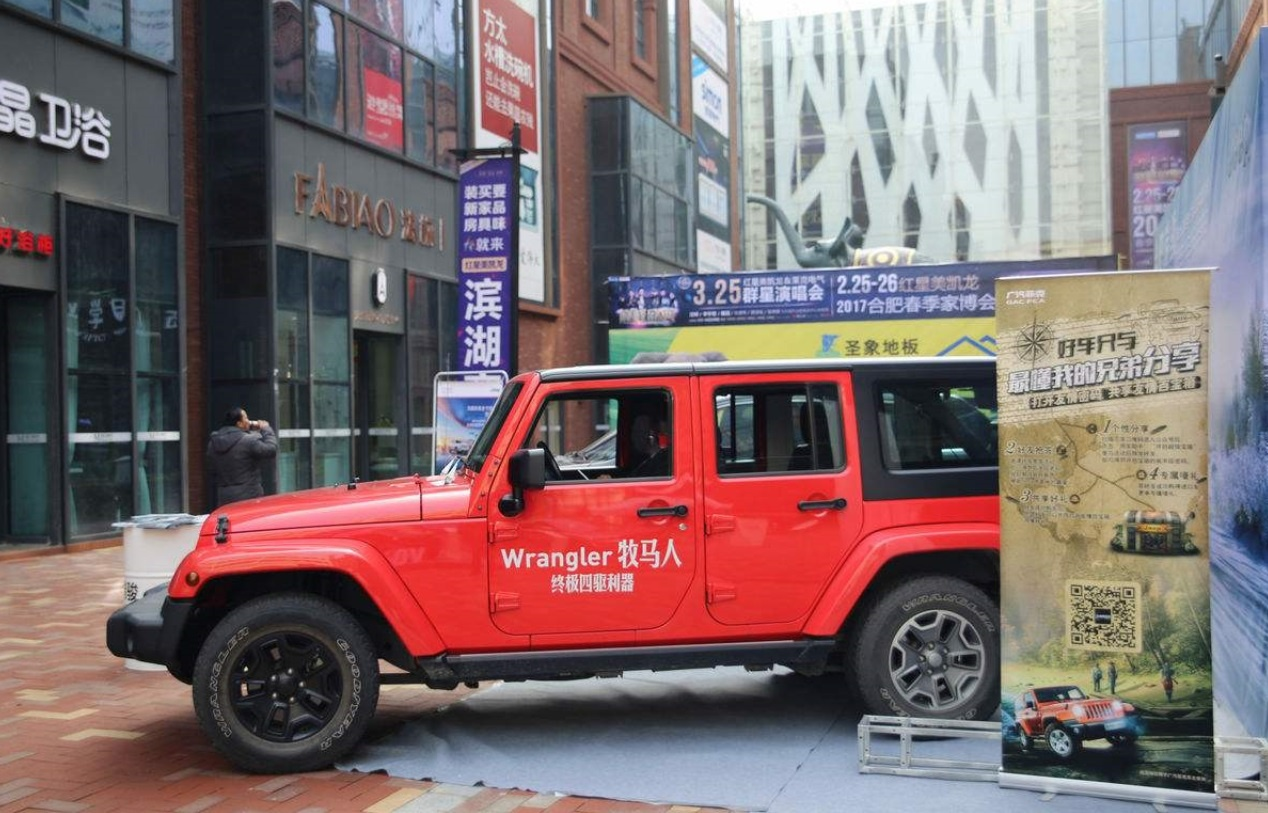jeep: (76, 370, 1092, 754)
